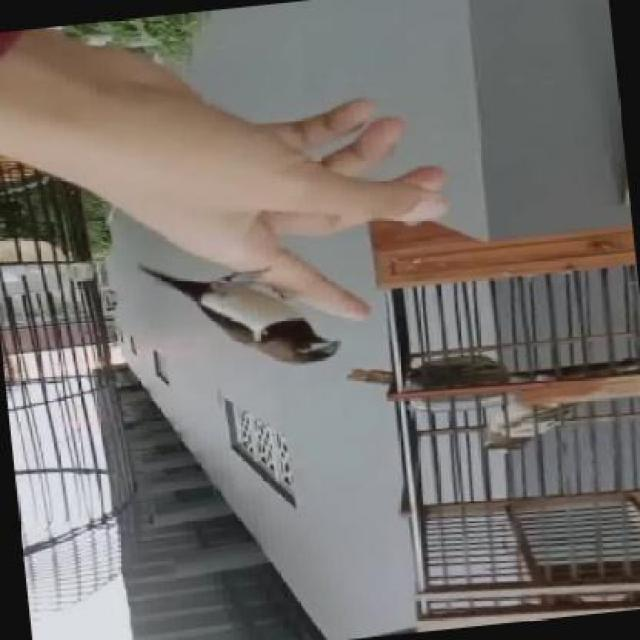Bird: (130, 237, 336, 419)
